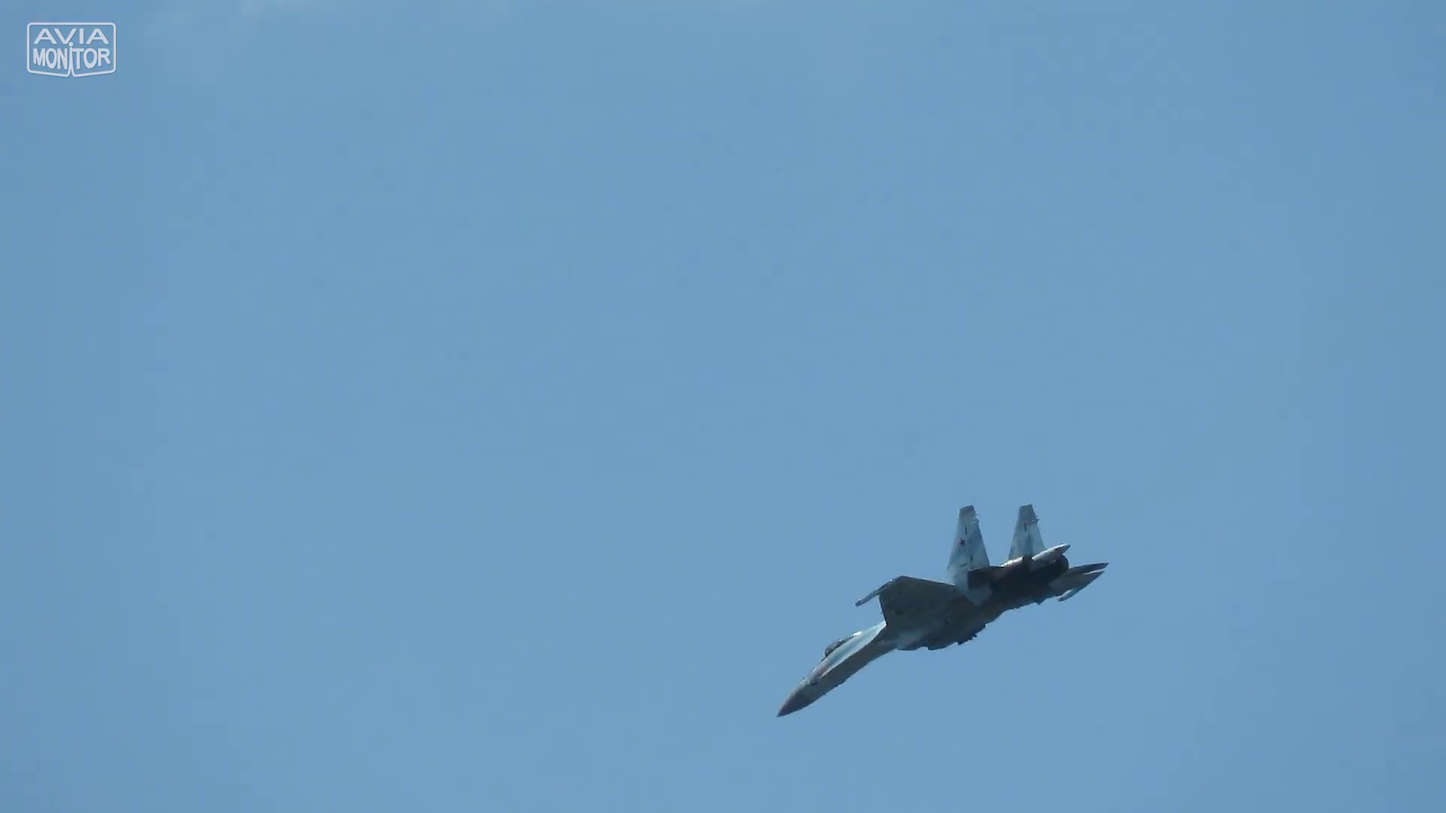Su35: (775, 503, 1110, 718)
